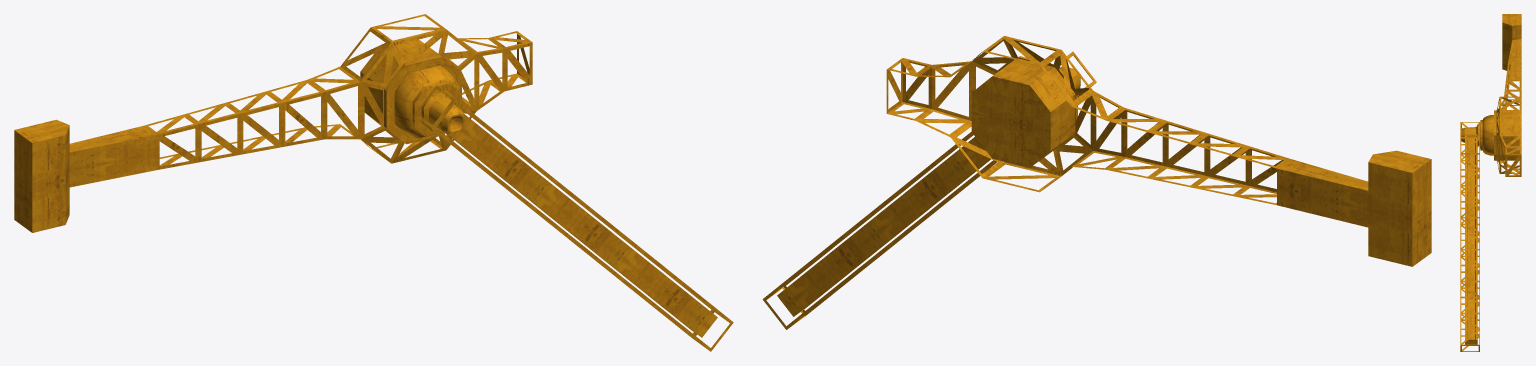
Rendered from SGY_CDC02.gltf.
The picture shows the model from 3 angles, left to right: view 1: azimuth 30°, elevation 25°; view 2: azimuth 150°, elevation 25°; view 3: azimuth 270°, elevation 25°; orthographic projection. The views are drawn at different scales.
Bounding box in the file's own units: 27.35 × 13.86 × 4.18.
1 material, 1 textured.
